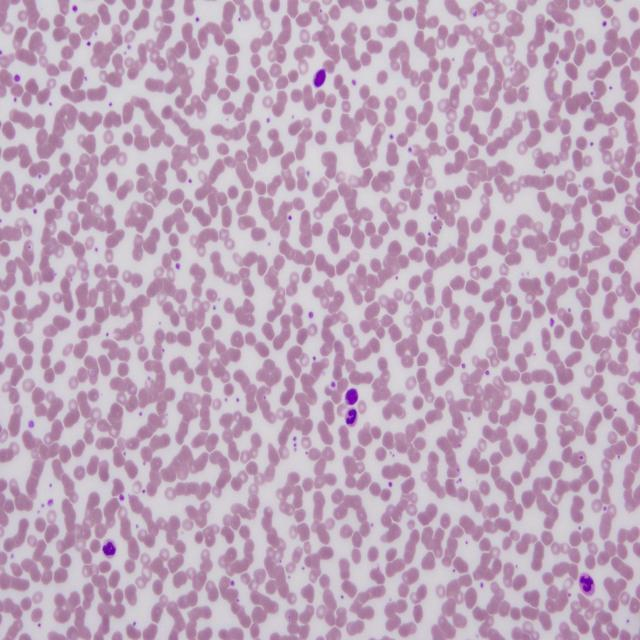cell: (579, 574, 595, 594), (345, 408, 358, 426)
